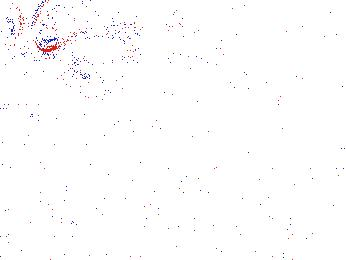moon jellyfish: (165, 45, 256, 138), (58, 21, 155, 102), (156, 9, 237, 77), (31, 1, 115, 53), (1, 54, 70, 110), (1, 1, 27, 52)
